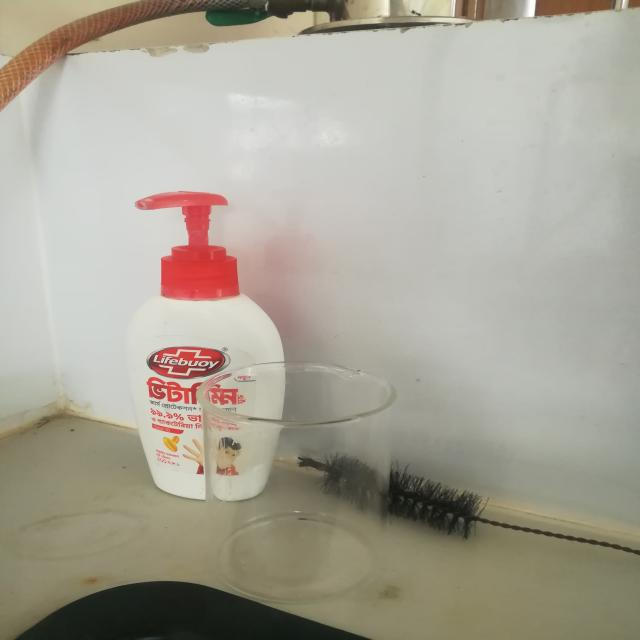Beaker: (144, 326, 426, 626)
